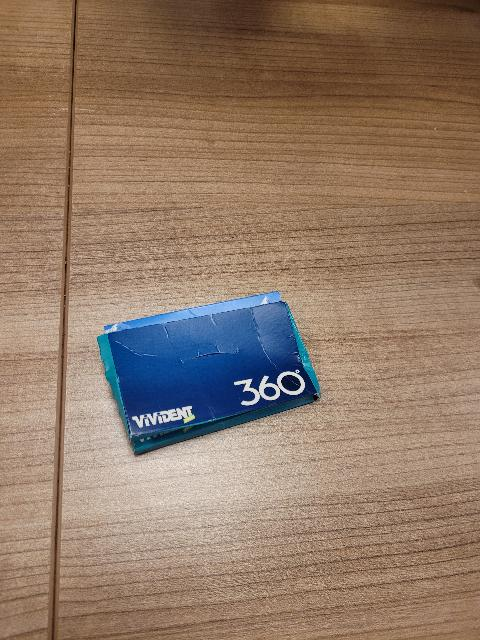Kagit: (96, 290, 338, 457)
